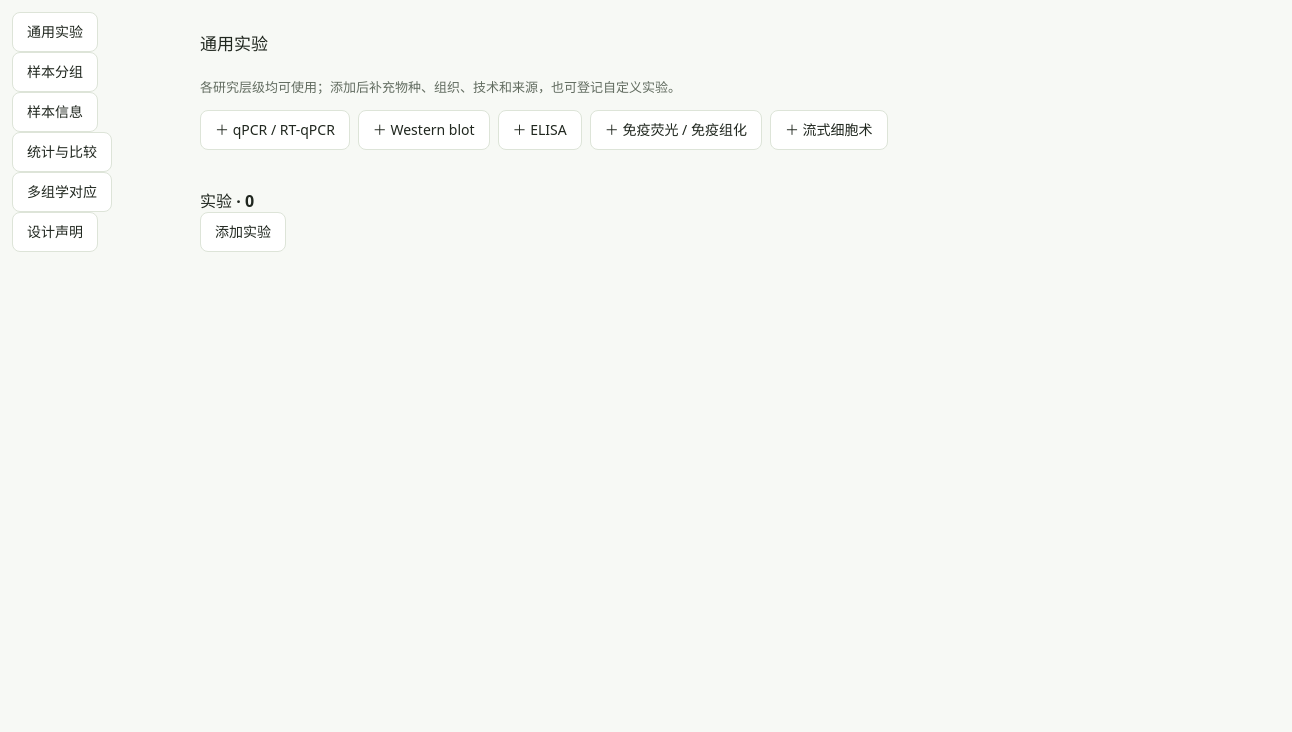
it: shows submitted sample facts read only and leaves the assigned analyst in charge of statistical design
Click the button "样本分组": x=55, y=72 [12, 52, 98, 92]
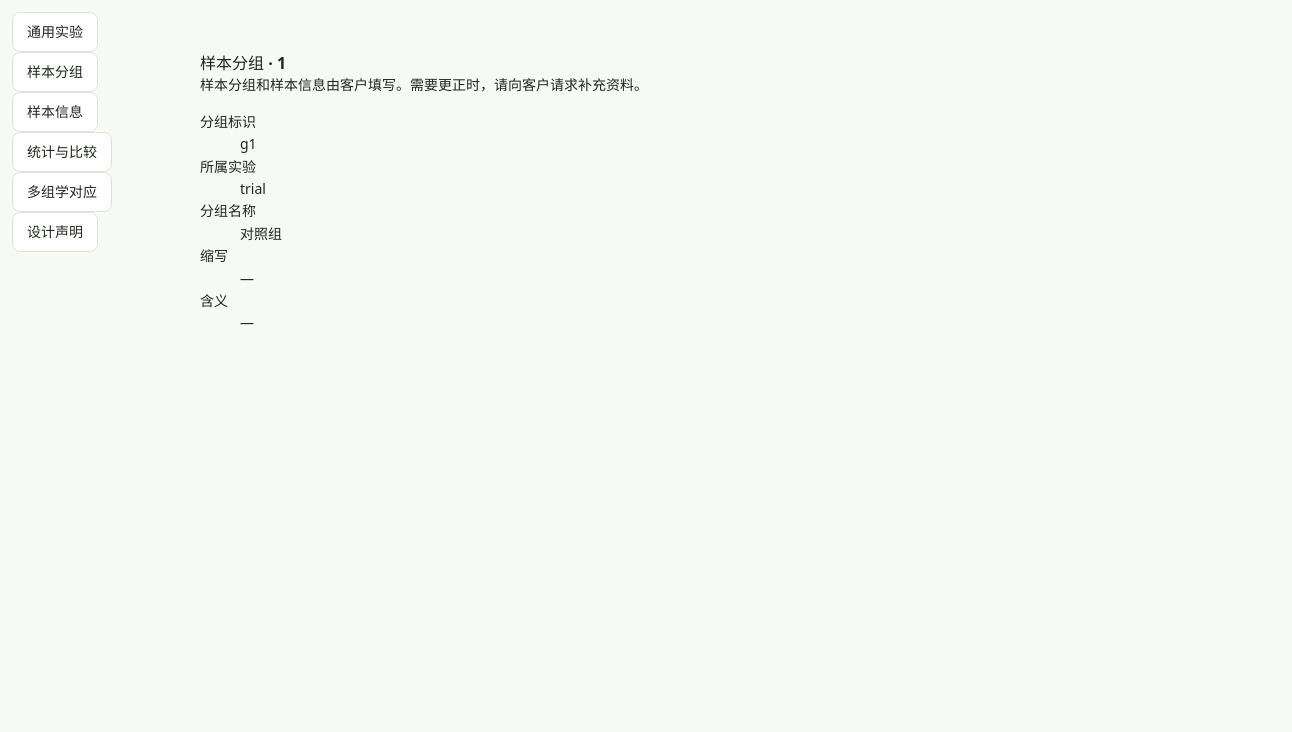
Result: the text "对照组" is shown at [240, 224, 282, 243]
Click the button "样本信息": x=55, y=112 [12, 92, 98, 132]
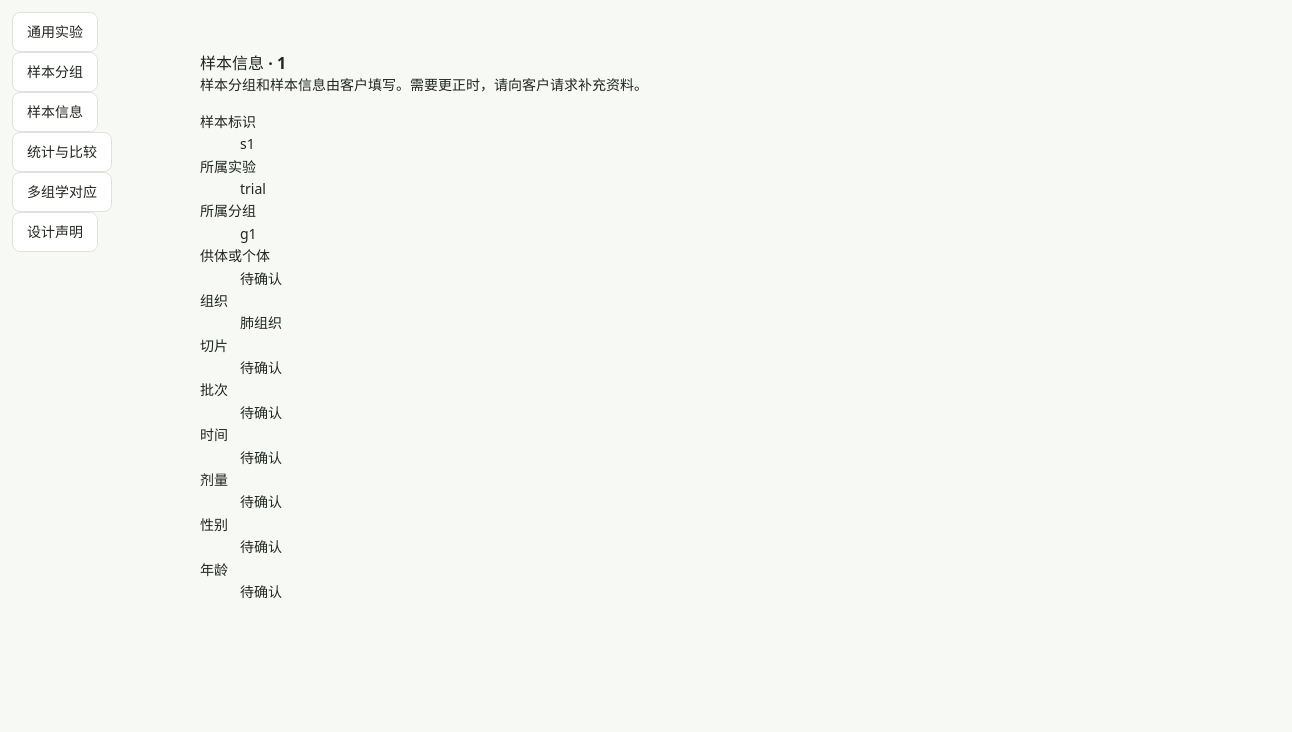
Result: the text "肺组织" is shown at [240, 313, 282, 332]
Click the button "统计与比较": x=62, y=152 [12, 132, 112, 172]
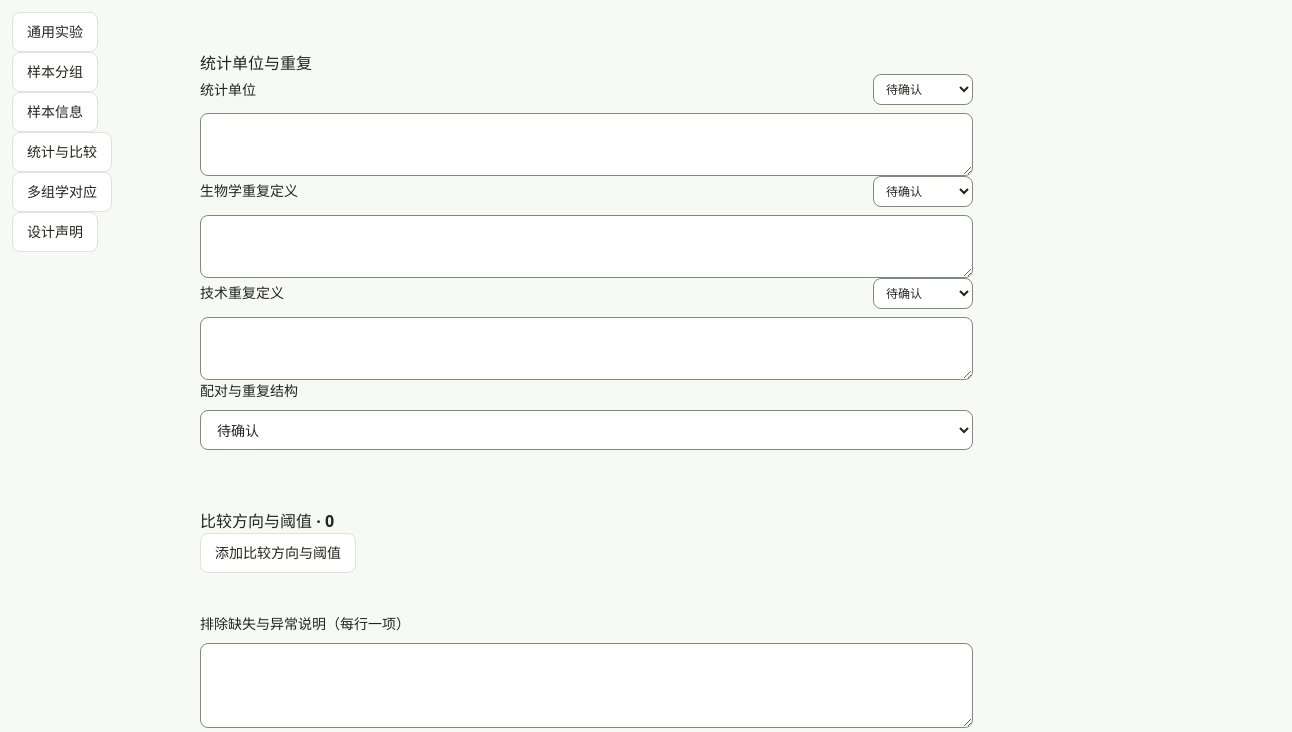
Expected: the button "多组学对应" is shown, [12, 172, 112, 212]
Result: the dropdown labelled "配对与重复结构" is enabled at [200, 410, 973, 450]
